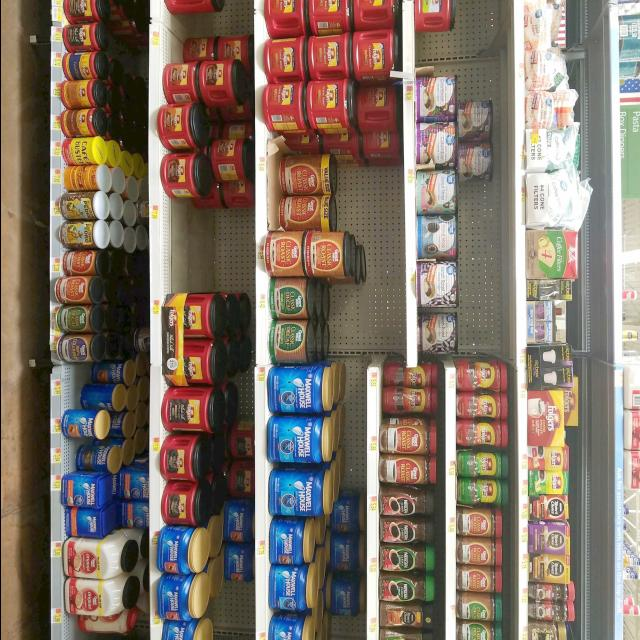empty_space: (169, 207, 251, 293), (457, 192, 495, 356), (320, 282, 404, 354), (330, 166, 398, 230), (414, 27, 494, 74)
